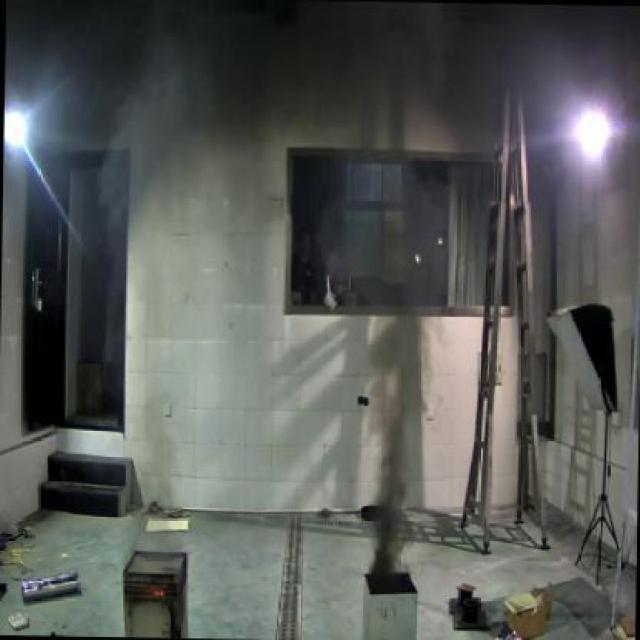fire: (366, 397, 416, 571)
